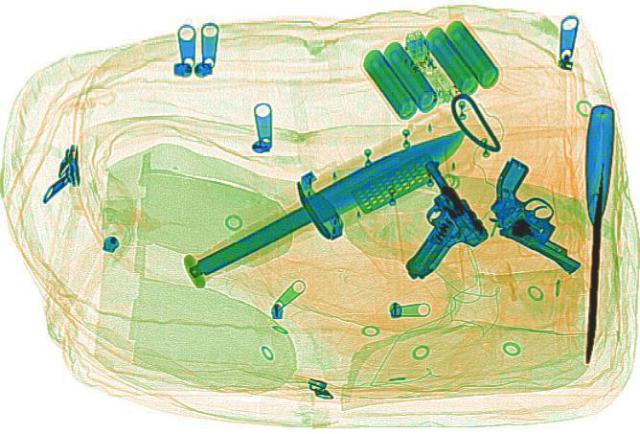Gun: (444, 155, 638, 271), (346, 156, 504, 278)
Knife: (183, 119, 479, 275), (583, 104, 611, 360)
